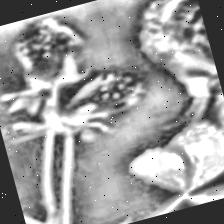Anthracnose Fruit Rot: (127, 0, 218, 93), (0, 7, 96, 93), (50, 59, 155, 134)
